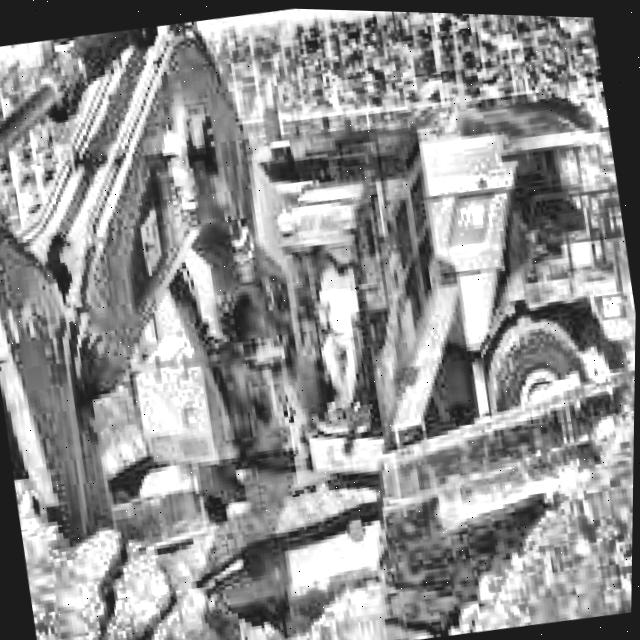dump_truck: (336, 326, 636, 640), (389, 68, 639, 413)
excavator: (0, 0, 487, 557)
